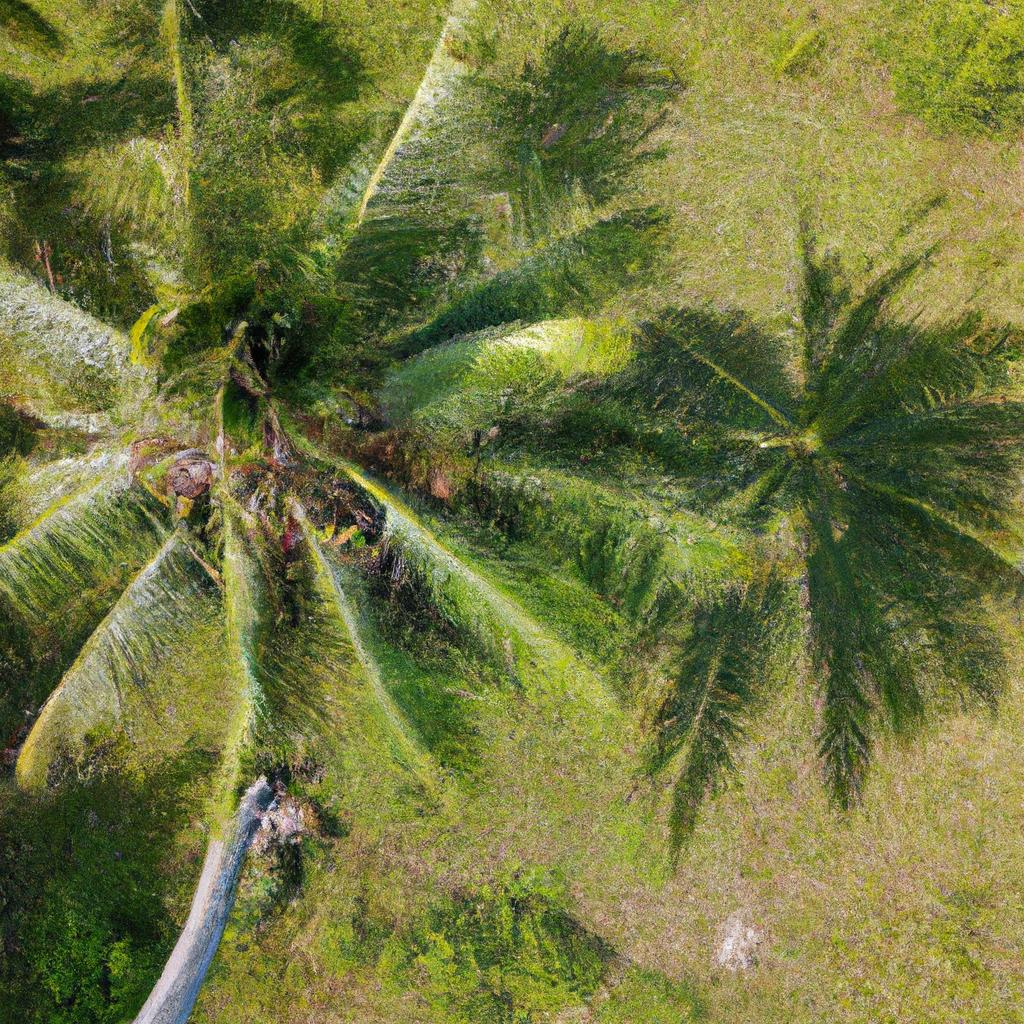coconut_tree: (0, 0, 647, 886)
